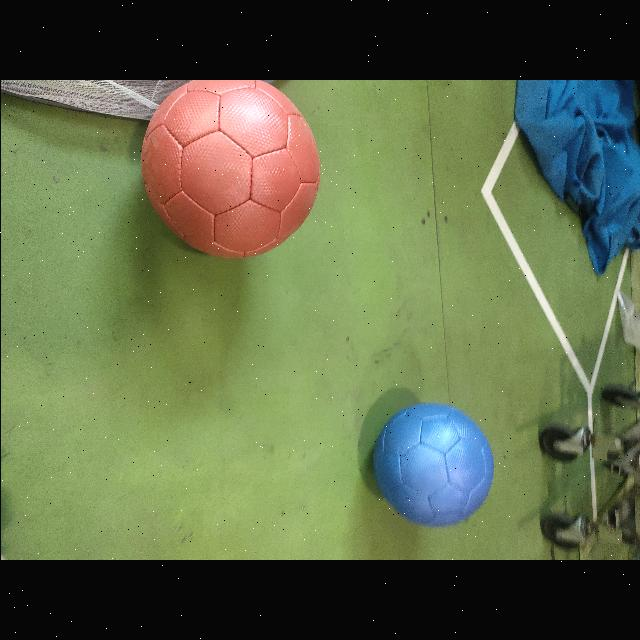B: (367, 402, 492, 528)
R: (137, 80, 318, 259)
